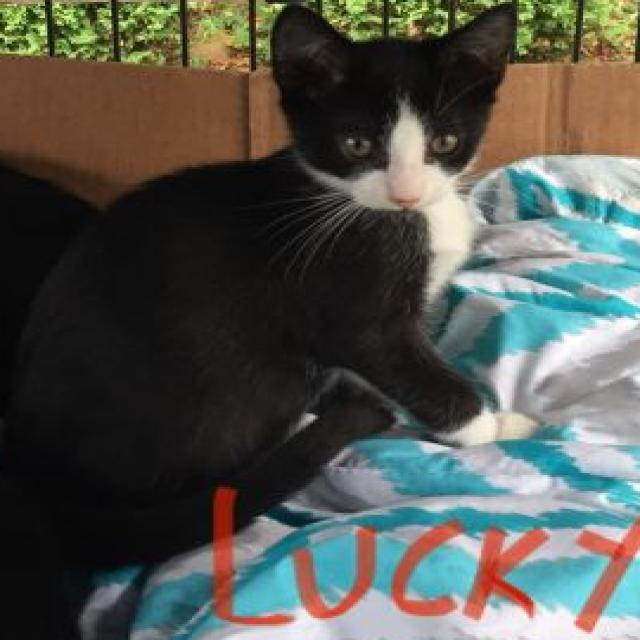Tuxedo: (0, 0, 545, 570)
